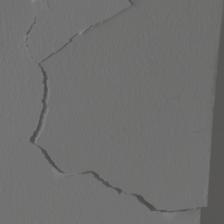High: (23, 1, 215, 224)
